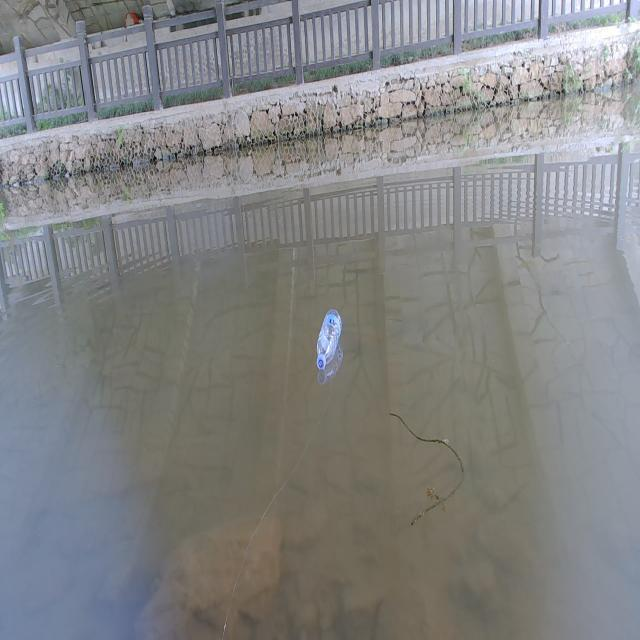garbage: (316, 308, 343, 371)
